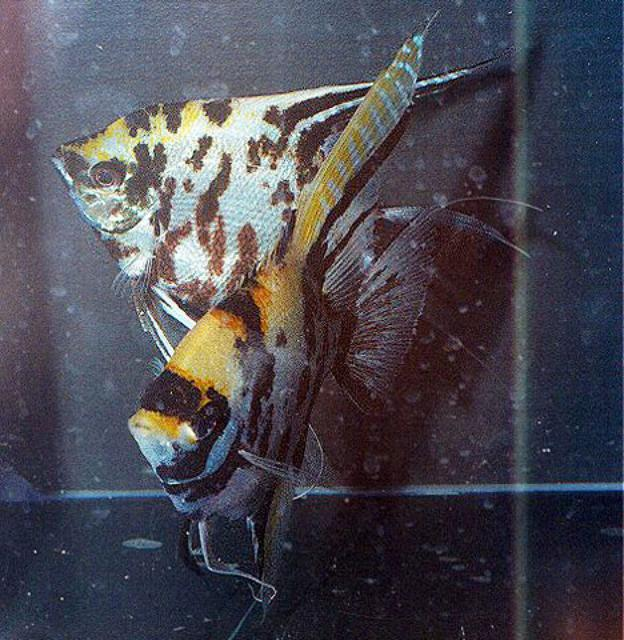Mulut: (110, 394, 188, 478), (38, 117, 102, 205)
Sirip Dada: (227, 432, 343, 510)
Sirip Ekor: (349, 182, 465, 450)
Sirip Perut: (150, 509, 286, 625), (120, 280, 212, 378)
Sirip Punggung: (288, 8, 450, 304)
